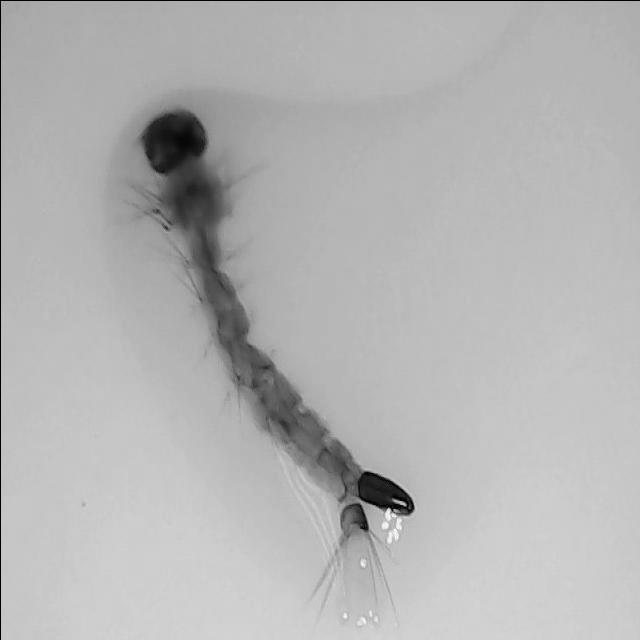larvas: (142, 120, 415, 532)
